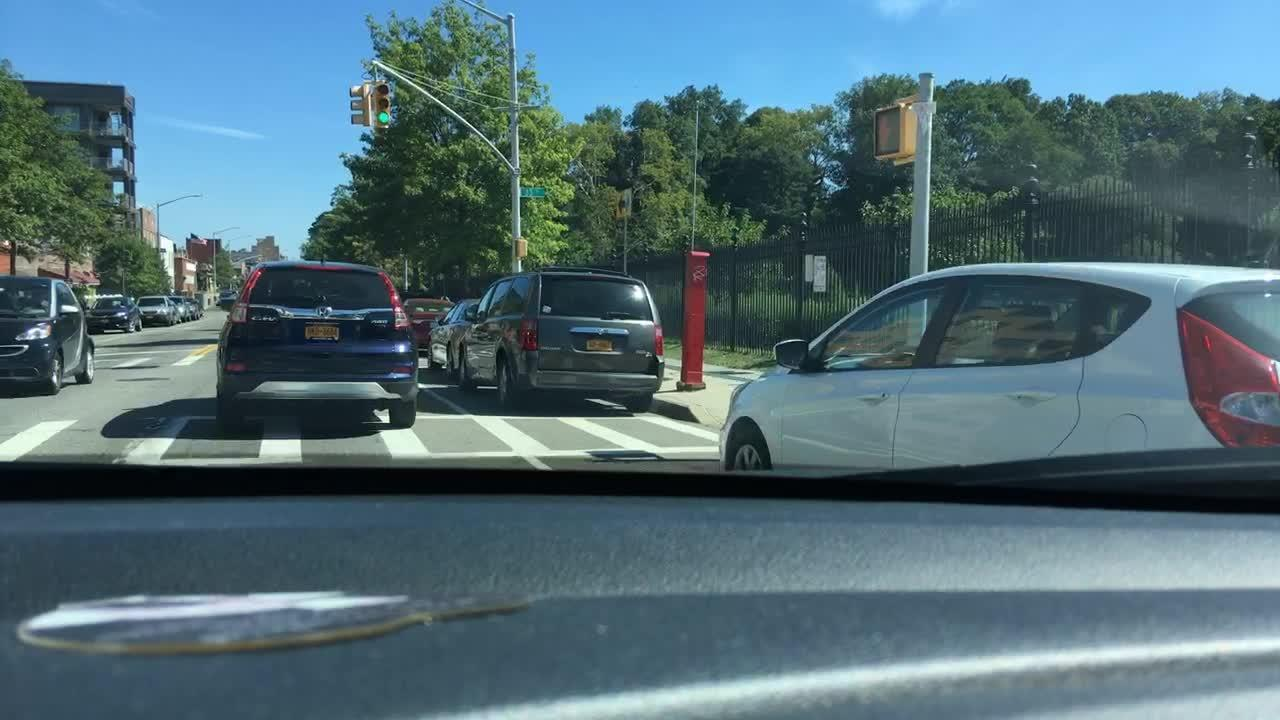Honda: (311, 299, 336, 321)
